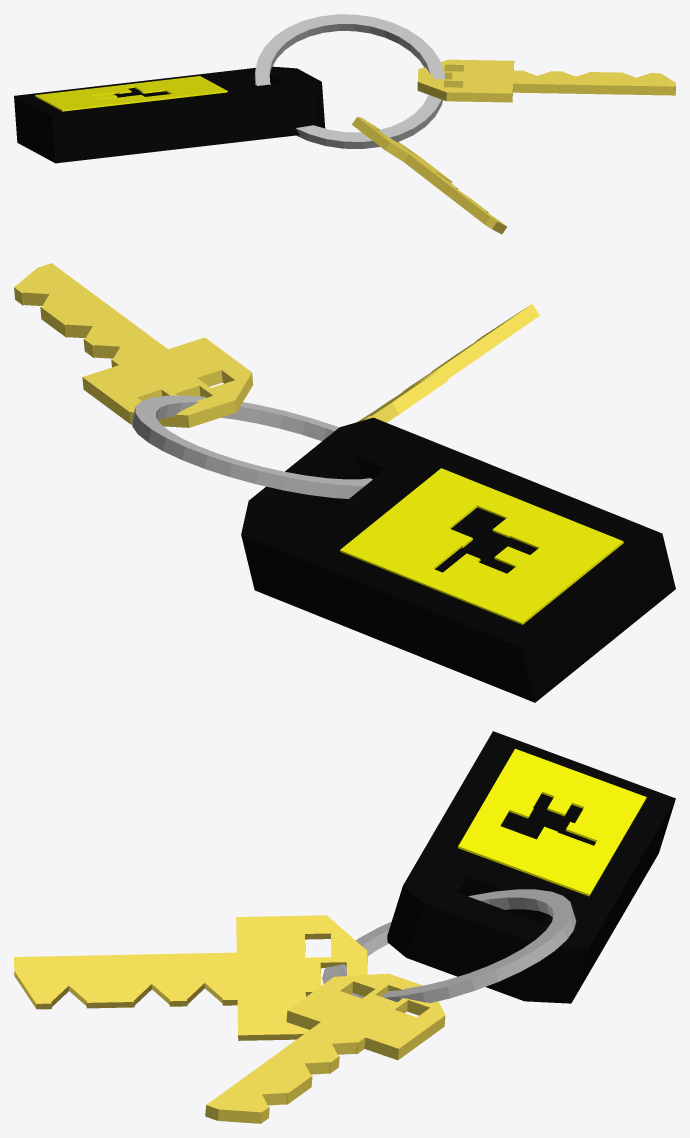
The model's file is Carkeys.glb.
3 renders of one model, top to bottom at view 1: azimuth 30°, elevation 25°; view 2: azimuth 150°, elevation 25°; view 3: azimuth 270°, elevation 25°, orthographic. The views are drawn at different scales.
Parts seen in each view (by area): view 1: Ring; view 2: Ring; view 3: Ring.
Part boxes in pixels (left/top/right/bottom): Ring: left=14, top=14, right=675, bottom=234; Ring: left=14, top=263, right=675, bottom=702; Ring: left=14, top=731, right=675, bottom=1123.
Bounding box in the file's own units: 0.3069 × 0.0481 × 0.2439.
